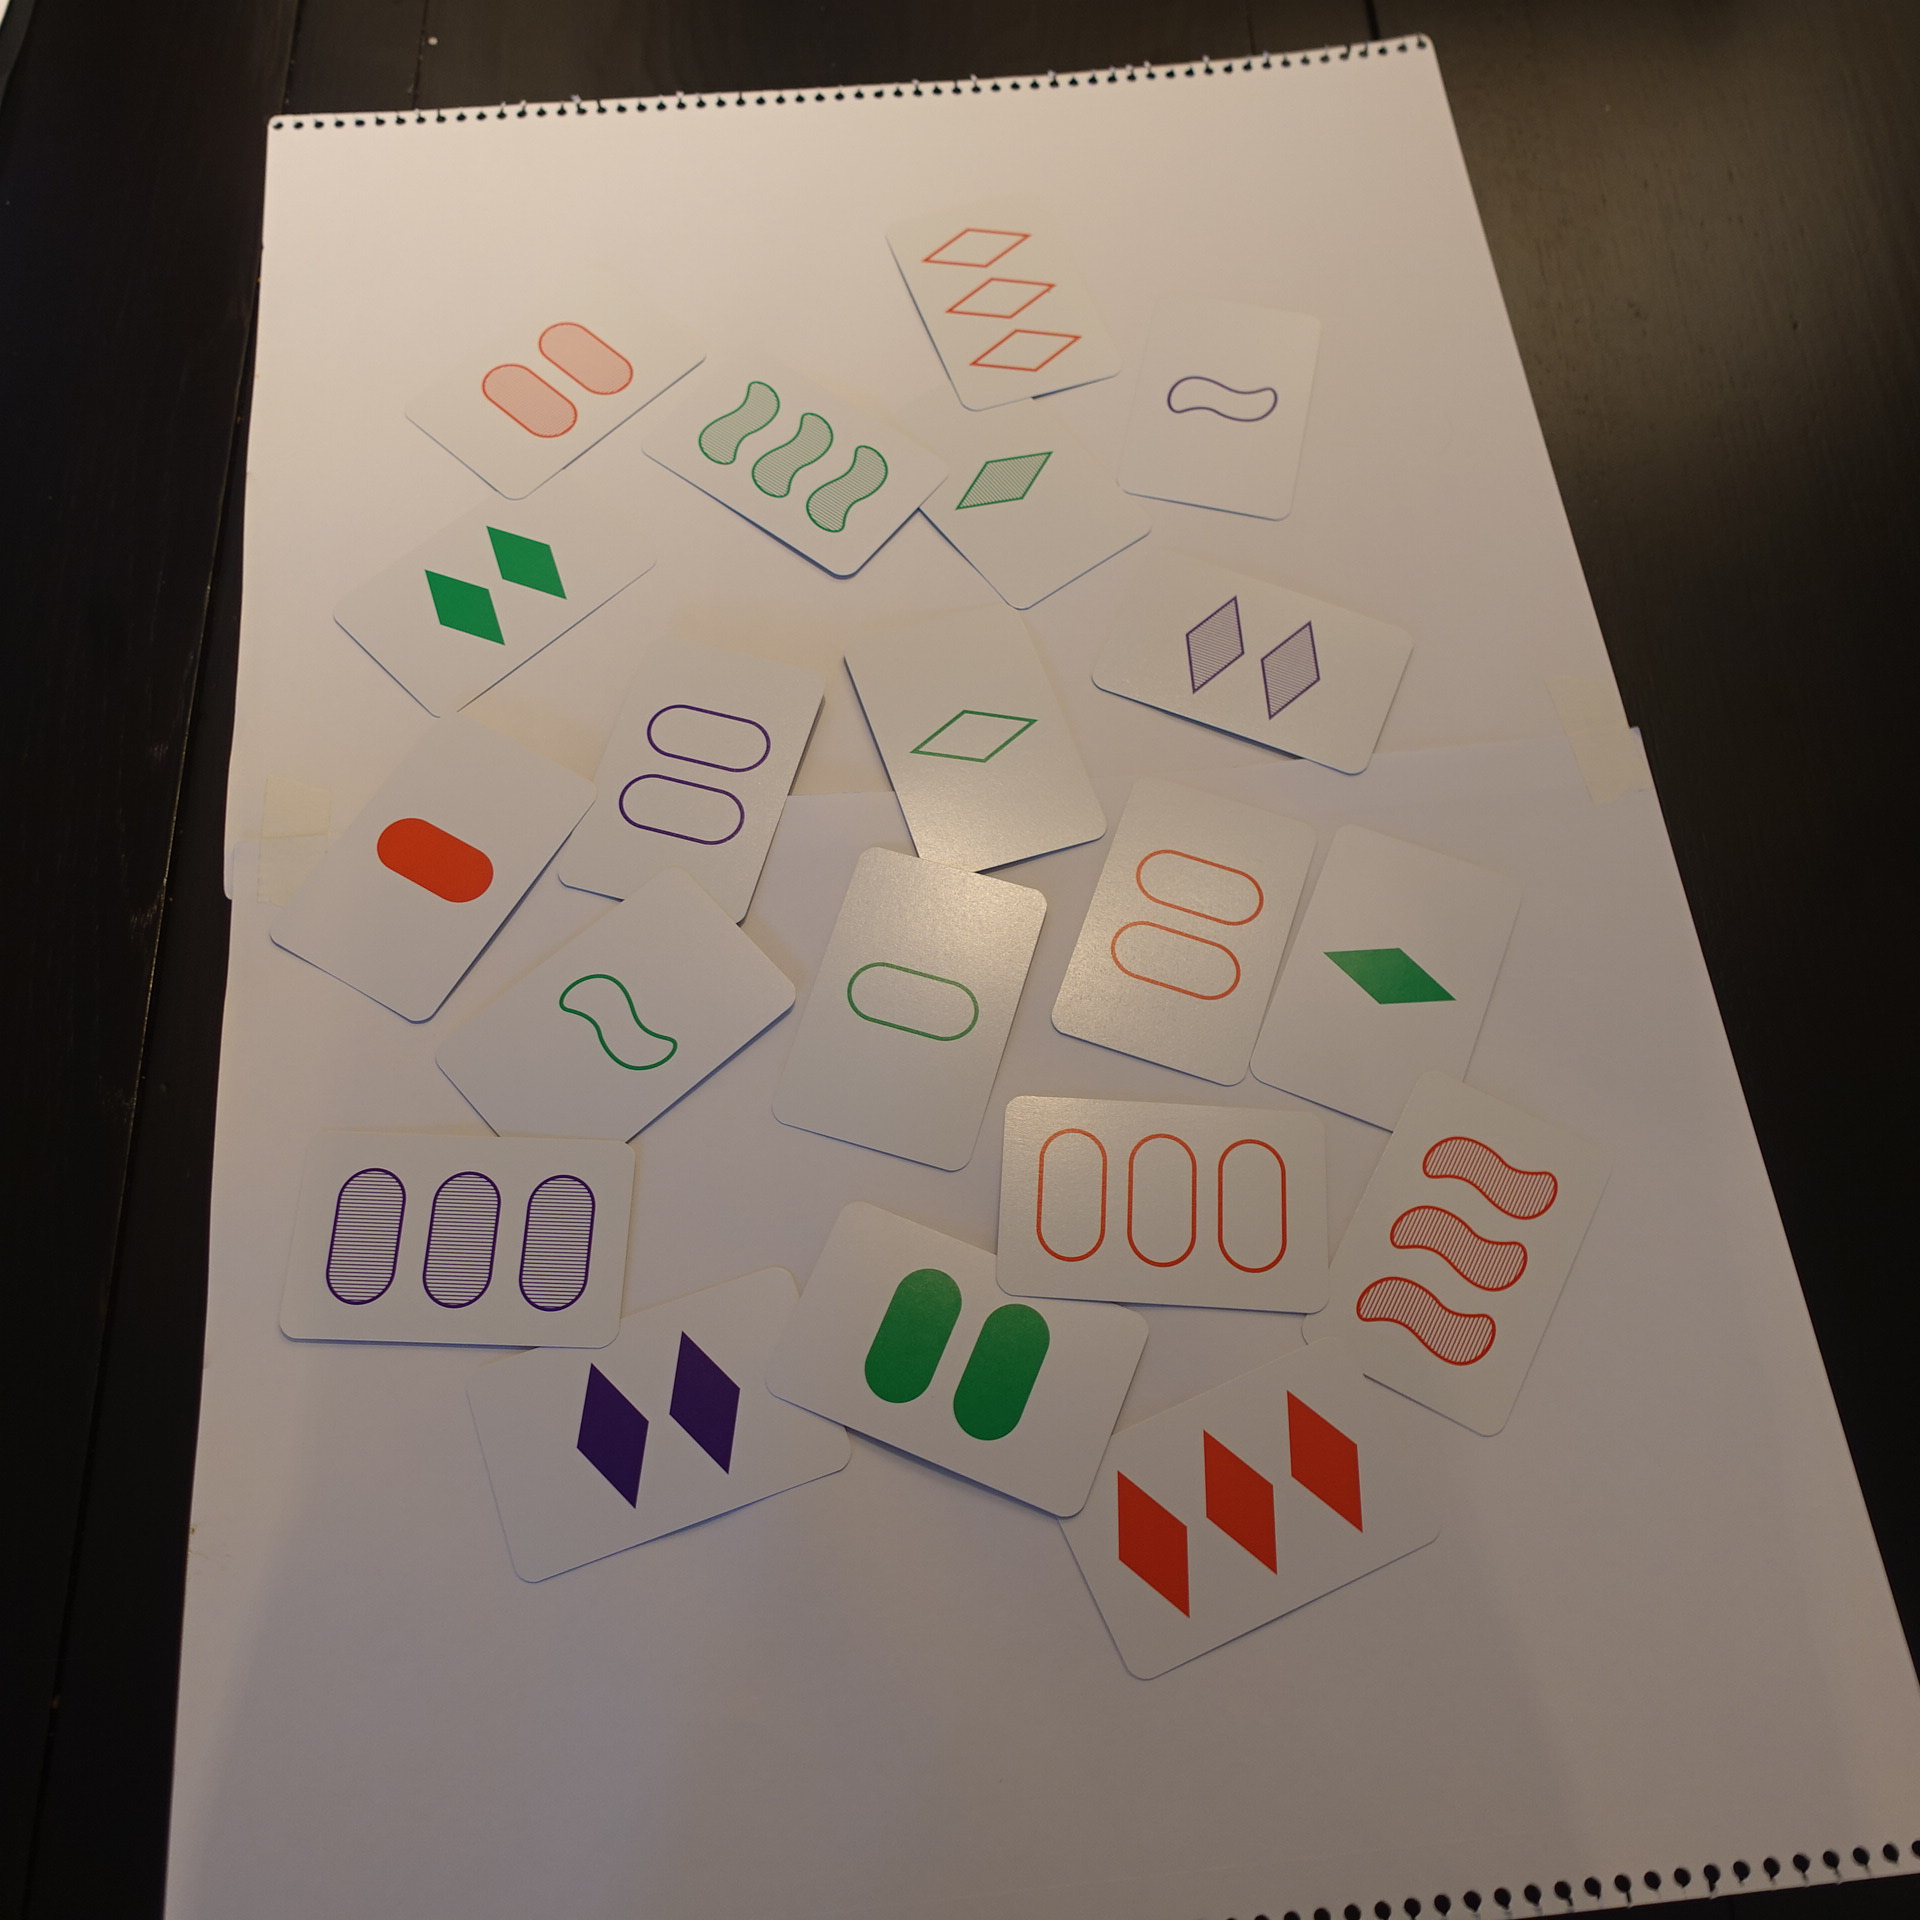c-1-f-d-g: (1247, 805, 1531, 1146)
c-1-f-o-g: (257, 702, 607, 1030)
c-1-h-d-g: (862, 362, 1160, 615)
c-1-u-d-g: (832, 594, 1113, 893)
c-1-u-o-g: (760, 835, 1053, 1180)
c-1-u-s-g: (422, 862, 804, 1169), (1116, 285, 1333, 533)
c-2-f-d-g: (461, 1259, 860, 1593), (324, 466, 666, 726)
c-2-f-o-g: (758, 1194, 1166, 1526)
c-2-h-d-g: (1088, 535, 1424, 784)
c-2-h-o-g: (394, 269, 717, 508)
c-2-u-o-g: (1050, 765, 1327, 1090), (552, 621, 837, 932)
c-3-f-d-g: (1041, 1319, 1451, 1686)
c-3-h-o-g: (267, 1115, 644, 1356)
c-3-h-s-g: (1299, 1057, 1621, 1449), (633, 339, 958, 587)
c-3-u-d-g: (879, 186, 1131, 417)
c-3-u-o-g: (990, 1074, 1343, 1324)
